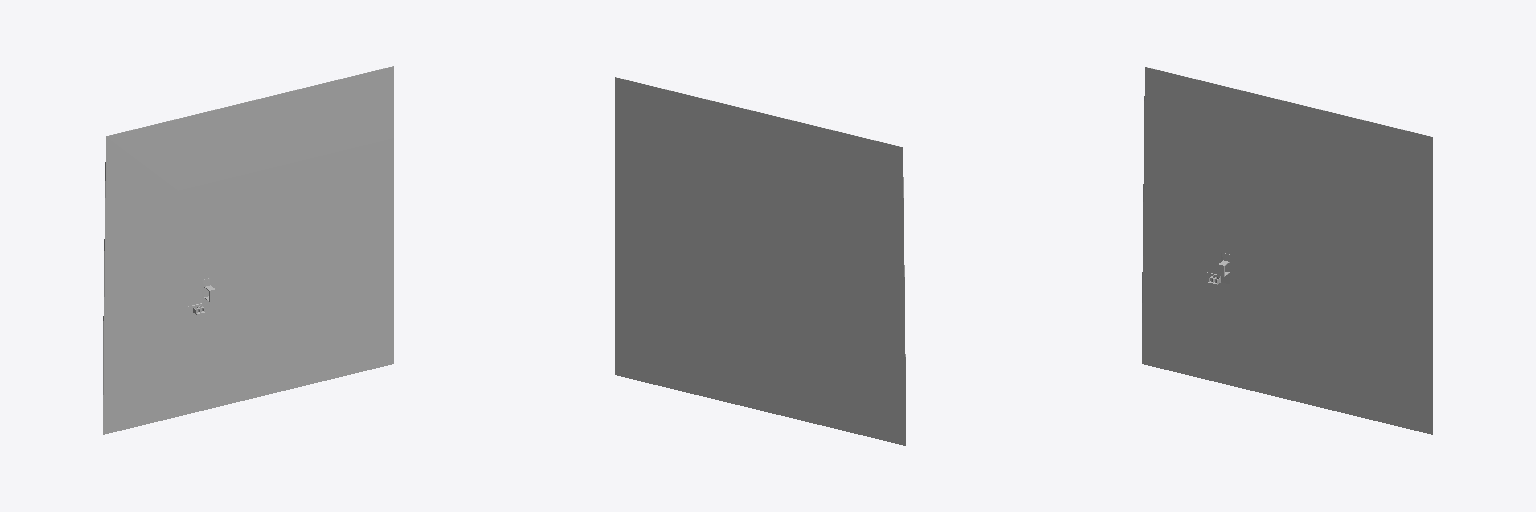
The model's file is industrial-acd-floor.obj.
3 views of the same model, side by side, from view 1: azimuth 30°, elevation 25°; view 2: azimuth 150°, elevation 25°; view 3: azimuth 330°, elevation 25° (orthographic).
Parts seen in each view (by area): view 1: convex_0.001_convex_0.005; view 2: convex_0.001_convex_0.005; view 3: convex_0.001_convex_0.005.
Part boxes in pixels (x1,y1,x2,y2): convex_0.001_convex_0.005: (103, 66, 393, 434); convex_0.001_convex_0.005: (615, 77, 905, 445); convex_0.001_convex_0.005: (1142, 67, 1432, 434).
Bounding box in the file's own units: 14.37 × 14.05 × 1.32.